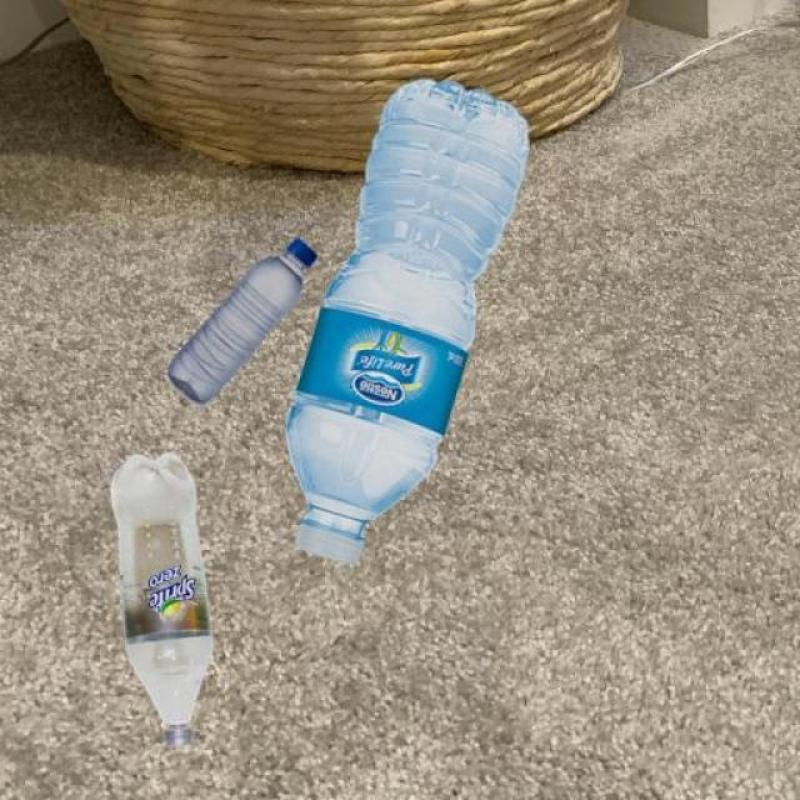botella: (290, 80, 535, 554), (103, 454, 219, 746), (170, 232, 318, 404)
